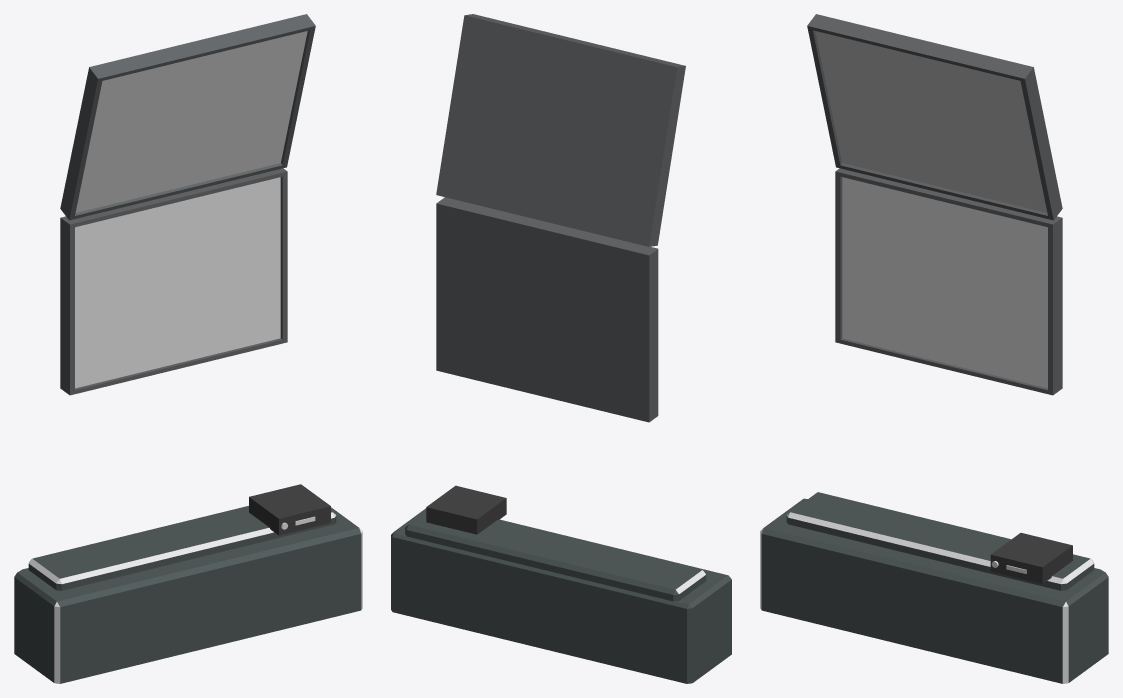
File: Television-Unit.fbx
3 views of the same model, side by side, from view 1: azimuth 30°, elevation 25°; view 2: azimuth 150°, elevation 25°; view 3: azimuth 330°, elevation 25° (orthographic). The views are drawn at different scales.
Visible parts, largest first — view 1: Television, Television-Unit, Satellite-Receiver; view 2: Television, Television-Unit, Satellite-Receiver; view 3: Television, Television-Unit, Satellite-Receiver.
Boxes of the visible parts, box(x1,y1,x2,y2) form: Television: box(60, 14, 315, 395); Television-Unit: box(14, 506, 362, 683); Satellite-Receiver: box(249, 484, 330, 535); Television: box(436, 14, 685, 422); Television-Unit: box(391, 508, 731, 683); Satellite-Receiver: box(426, 485, 506, 534); Television: box(807, 14, 1062, 395); Television-Unit: box(760, 492, 1108, 683); Satellite-Receiver: box(990, 533, 1072, 583).
Bounding box in the file's own units: 4 × 7.41 × 1.
